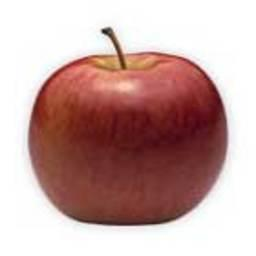apple: (28, 37, 229, 227)
